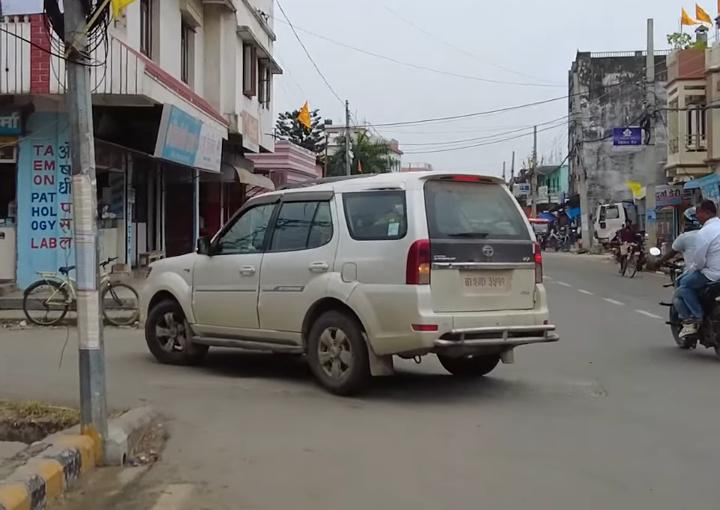SUV: (132, 162, 559, 400)
